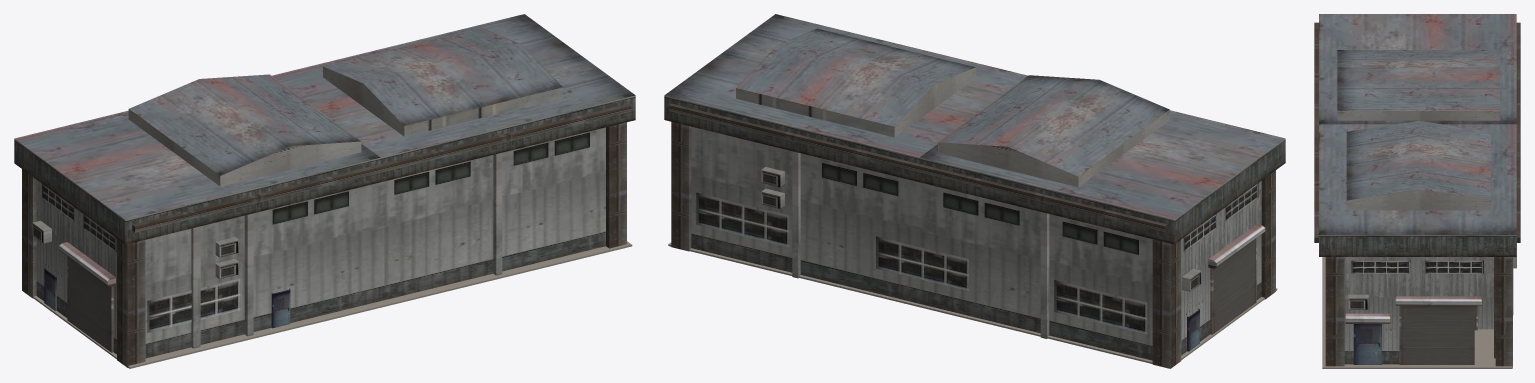
The model's file is ind-warehouse-1.access-v2.lod0.glb.
3 renders of one model, left to right at view 1: azimuth 30°, elevation 25°; view 2: azimuth 150°, elevation 25°; view 3: azimuth 270°, elevation 25°, orthographic. The views are drawn at different scales.
Visible parts, largest first — view 1: Industrial_Warehouse_1_Industrial_Walls_FLR_1_0, Industrial_Warehouse_1_Industrial_Facade_Flr_1_0, Walkable floors and stairs; view 2: Industrial_Warehouse_1_Industrial_Walls_FLR_1_0, Industrial_Warehouse_1_Industrial_Facade_Flr_1_0, Walkable floors and stairs; view 3: Industrial_Warehouse_1_Industrial_Walls_FLR_1_0, Industrial_Warehouse_1_Industrial_Facade_Flr_1_0, Walkable floors and stairs.
Part boxes in pixels (box(x1,y1,x2,y2)): Industrial_Warehouse_1_Industrial_Walls_FLR_1_0: box(14, 14, 635, 367); Industrial_Warehouse_1_Industrial_Facade_Flr_1_0: box(32, 132, 589, 352); Walkable floors and stairs: box(33, 241, 632, 368); Industrial_Warehouse_1_Industrial_Walls_FLR_1_0: box(664, 14, 1285, 368); Industrial_Warehouse_1_Industrial_Facade_Flr_1_0: box(696, 163, 1265, 351); Walkable floors and stairs: box(668, 242, 1277, 363); Industrial_Warehouse_1_Industrial_Walls_FLR_1_0: box(1314, 14, 1520, 367); Industrial_Warehouse_1_Industrial_Facade_Flr_1_0: box(1345, 243, 1516, 364); Walkable floors and stairs: box(1322, 257, 1512, 368).
Bounding box in the file's own units: 33.83 × 11.12 × 13.36.
3 materials, 2 textured.
